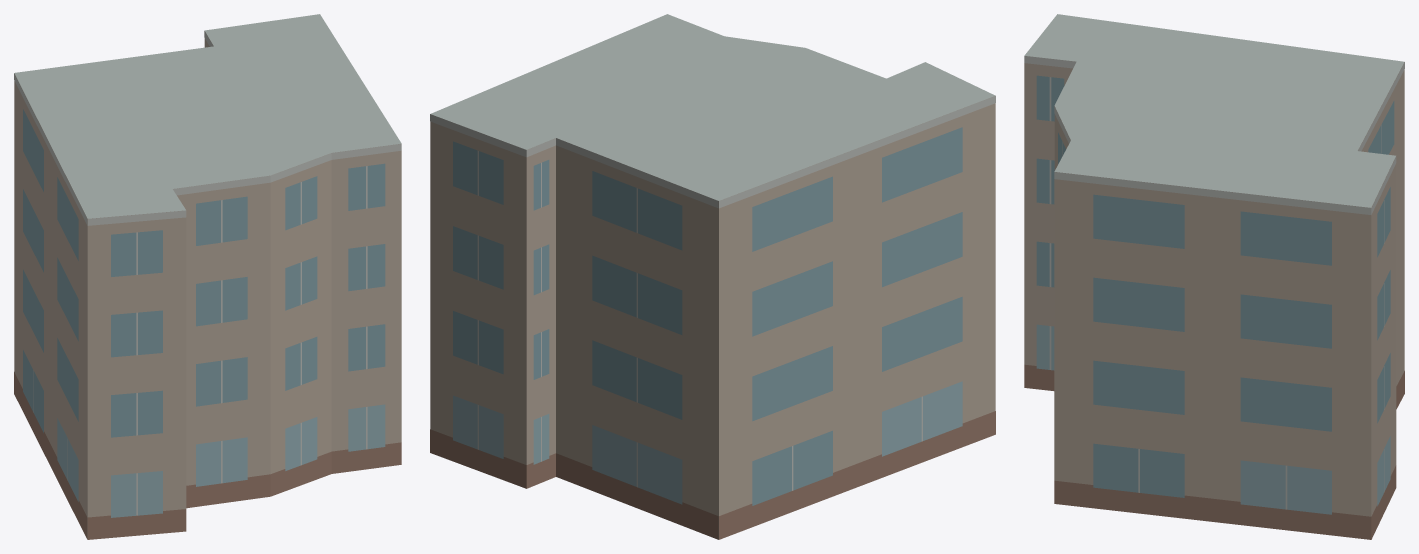
The model's file is survey-upis-32571186.glb.
3 views of the same model, side by side, from view 1: azimuth 30°, elevation 25°; view 2: azimuth 150°, elevation 25°; view 3: azimuth 270°, elevation 25° (orthographic). The views are drawn at different scales.
Parts seen in each view (by area): view 1: survey-upis-32571186.tmp; view 2: survey-upis-32571186.tmp; view 3: survey-upis-32571186.tmp.
Boxes of the visible parts, left/top/right/bottom form: survey-upis-32571186.tmp: left=14, top=14, right=401, bottom=539; survey-upis-32571186.tmp: left=430, top=14, right=995, bottom=539; survey-upis-32571186.tmp: left=1024, top=14, right=1404, bottom=539.
Size of the model in its own units: 13.91 by 11.1 by 11.54.
